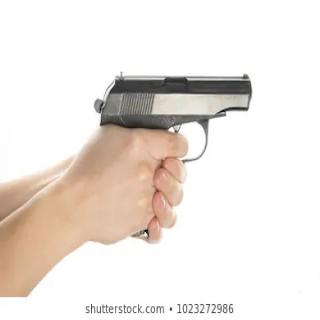gun: (94, 68, 253, 241)
